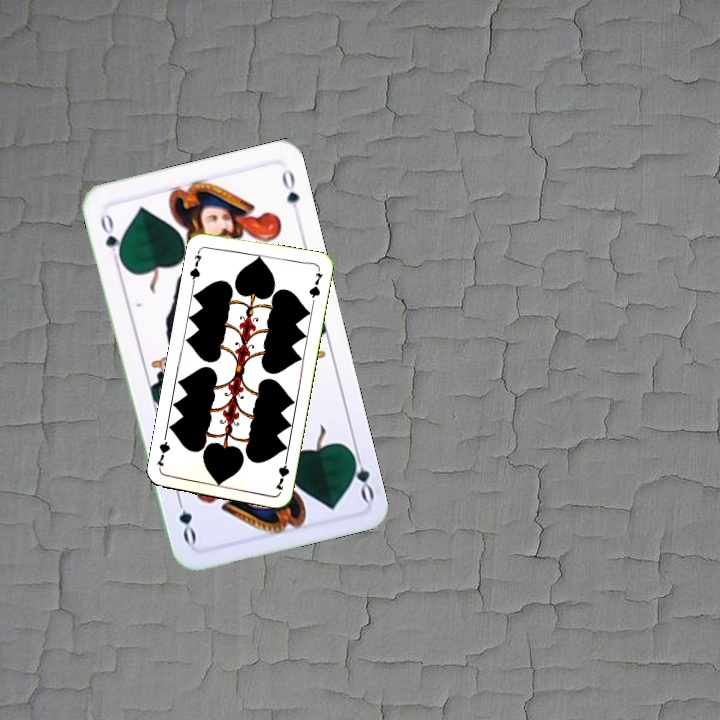G7: (271, 452, 292, 493), (185, 245, 205, 286)
GO: (346, 445, 377, 504), (96, 210, 125, 266)
